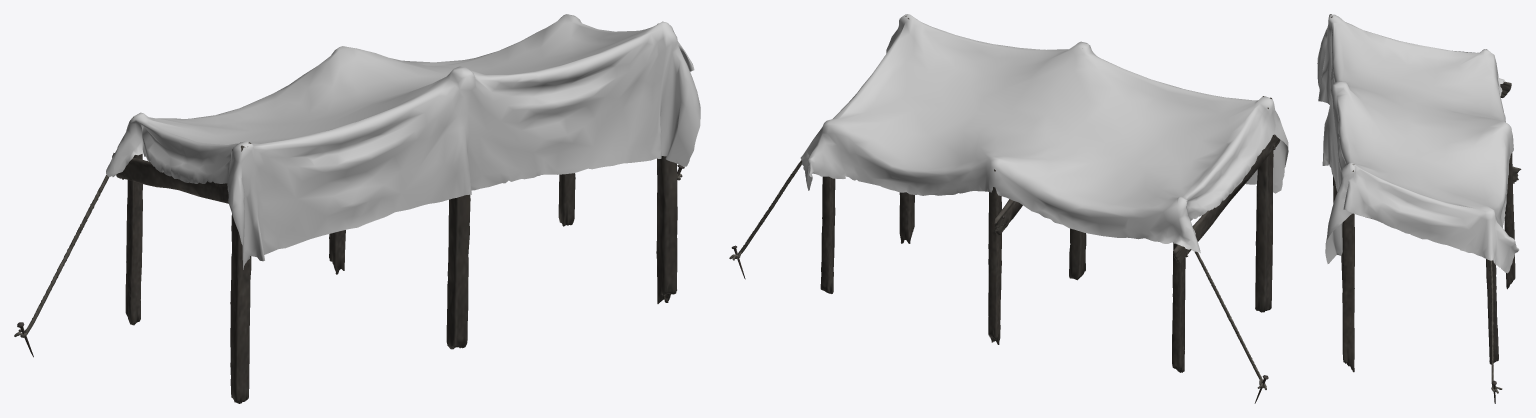
The model's file is CTent_02.fbx.
3 renders of one model, left to right at view 1: azimuth 30°, elevation 25°; view 2: azimuth 150°, elevation 25°; view 3: azimuth 270°, elevation 25°, orthographic. The views are drawn at different scales.
Parts seen in each view (by area): view 1: CTent_02, CFrame_02; view 2: CTent_02, CFrame_02; view 3: CTent_02, CFrame_02.
Boxes of the visible parts, left/top/right/bottom form: CTent_02: left=106, top=14, right=700, bottom=269; CFrame_02: left=14, top=23, right=684, bottom=403; CTent_02: left=800, top=14, right=1288, bottom=252; CFrame_02: left=729, top=15, right=1280, bottom=403; CTent_02: left=1317, top=14, right=1519, bottom=273; CFrame_02: left=1329, top=14, right=1521, bottom=403.
Size of what is drawn, in the model's own units: 1281 by 539 by 466.
